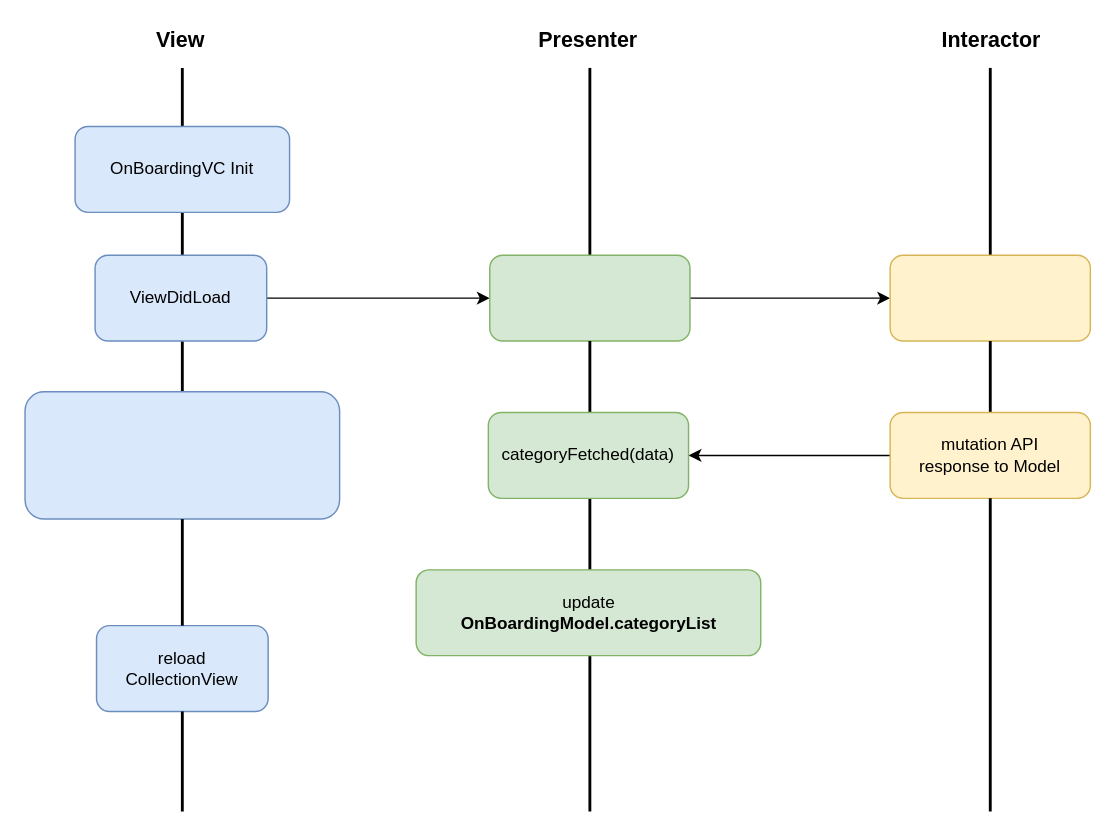
This 1115x838 diagram has some shape labels left out. Here are the shapes that lost their labels. From the top down, the centre of each, then its label:
pixel 589 297: fetchCategory()
pixel 989 297: getCategoryList()
pixel 182 454: binding OnBoardingModel.categoryList & CollectionView
